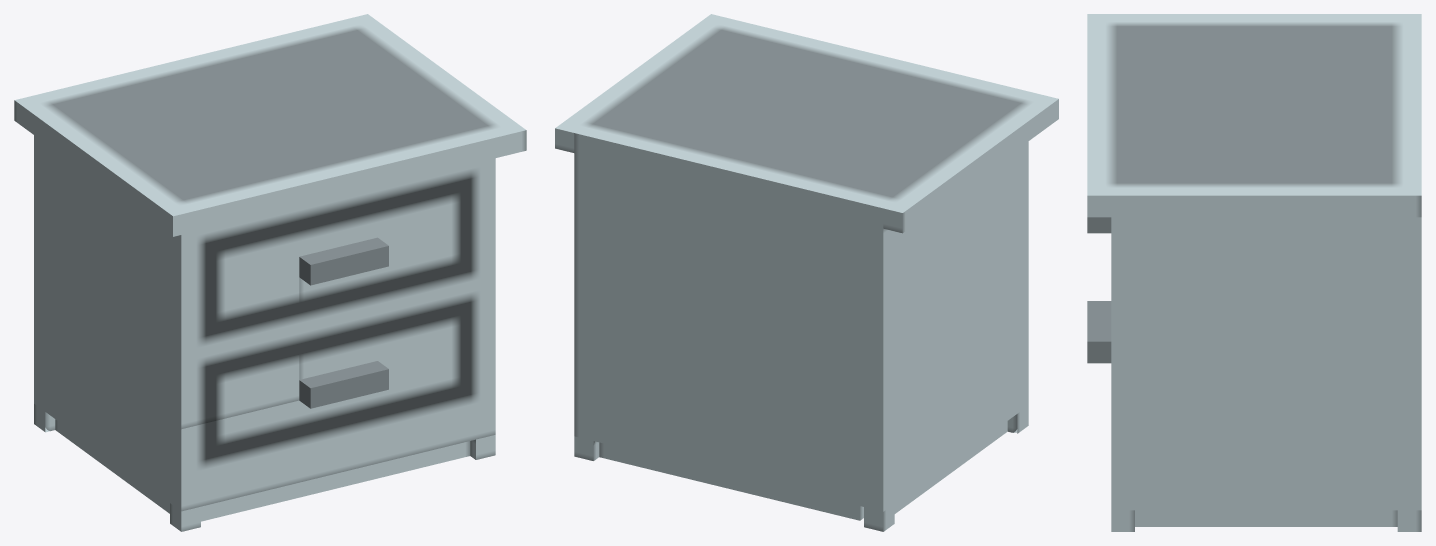
The model's file is szafeczka.dae.
3 views of the same model, side by side, from view 1: azimuth 30°, elevation 25°; view 2: azimuth 150°, elevation 25°; view 3: azimuth 270°, elevation 25° (orthographic). The views are drawn at different scales.
Parts seen in each view (by area): view 1: Content; view 2: Content; view 3: Content.
Boxes of the visible parts, x1,y1,x2,y2 form: Content: (14, 14, 526, 531); Content: (555, 14, 1058, 531); Content: (1087, 14, 1421, 531).
Size of the model in its own units: 36 by 32 by 28.
Materials: 1 (1 with a texture image).
